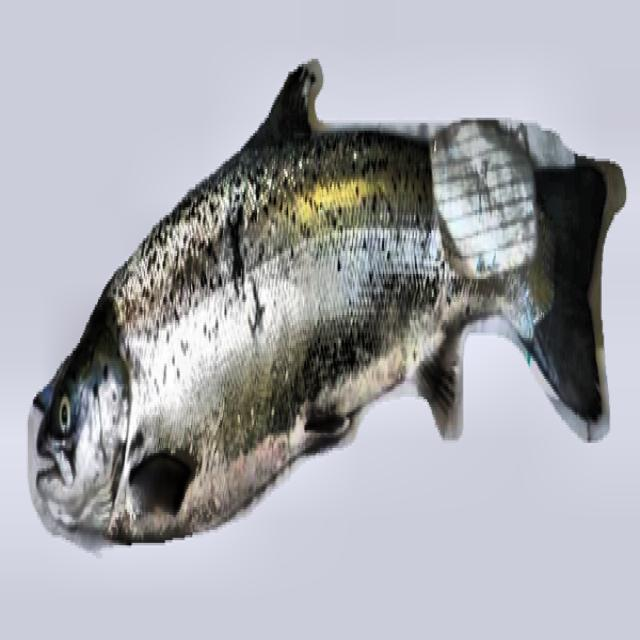mild_red: (106, 128, 527, 538)
